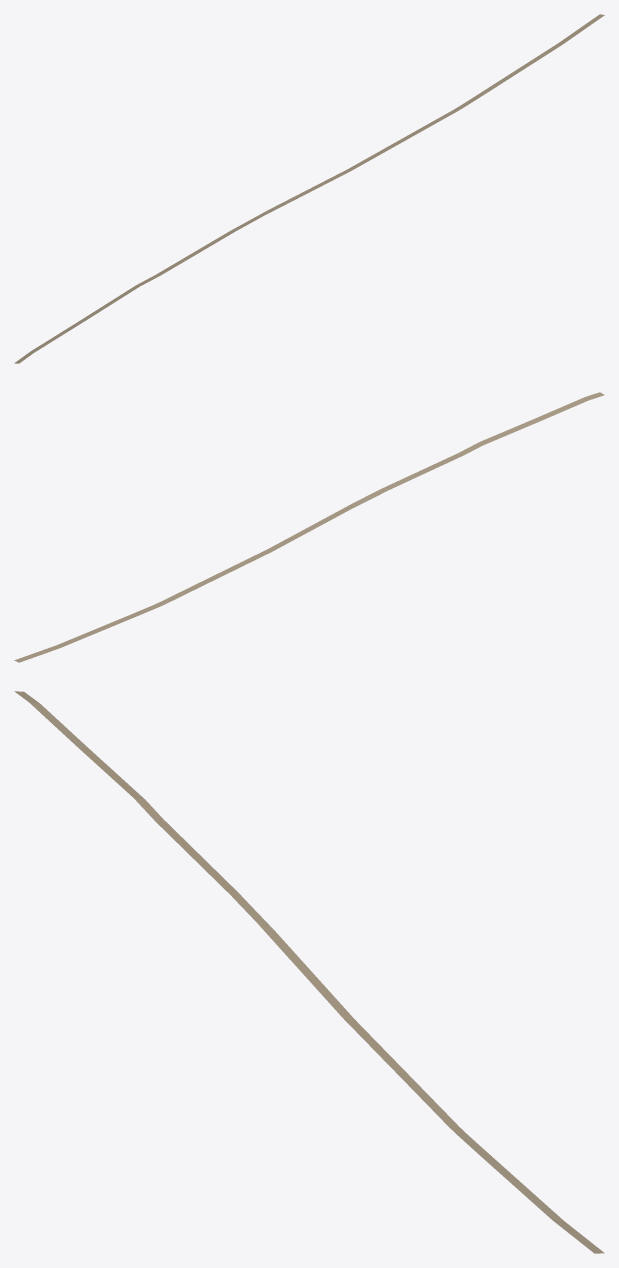
Rendered from farm_-2_7_track.glb.
The picture shows the model from 3 angles, top to bottom: view 1: azimuth 30°, elevation 25°; view 2: azimuth 210°, elevation 25°; view 3: azimuth 270°, elevation 25°; orthographic projection. The views are drawn at different scales.
Parts seen in each view (by area): view 1: geometry_0; view 2: geometry_0; view 3: geometry_0.
Boxes of the visible parts, bbox=[...] form: geometry_0: bbox=[14, 14, 604, 363]; geometry_0: bbox=[14, 392, 604, 662]; geometry_0: bbox=[14, 691, 604, 1253].
Size of the model in its own units: 445 by 23.29 by 176.
